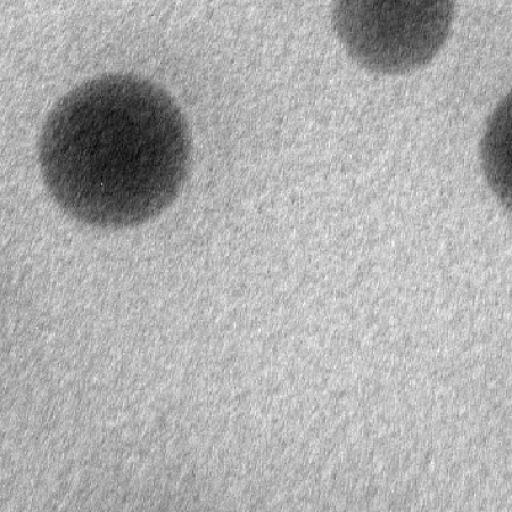Nanoparticles: (35, 73, 192, 227), (334, 1, 454, 74), (483, 83, 512, 210)
